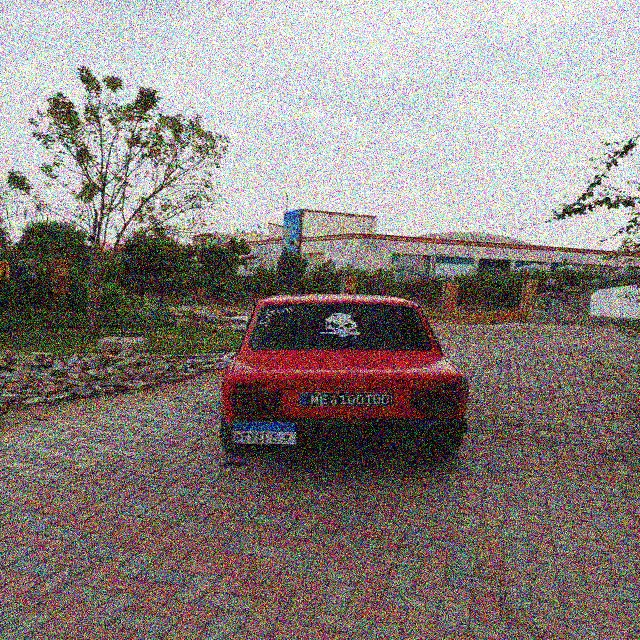License Plate: (232, 421, 299, 446)
